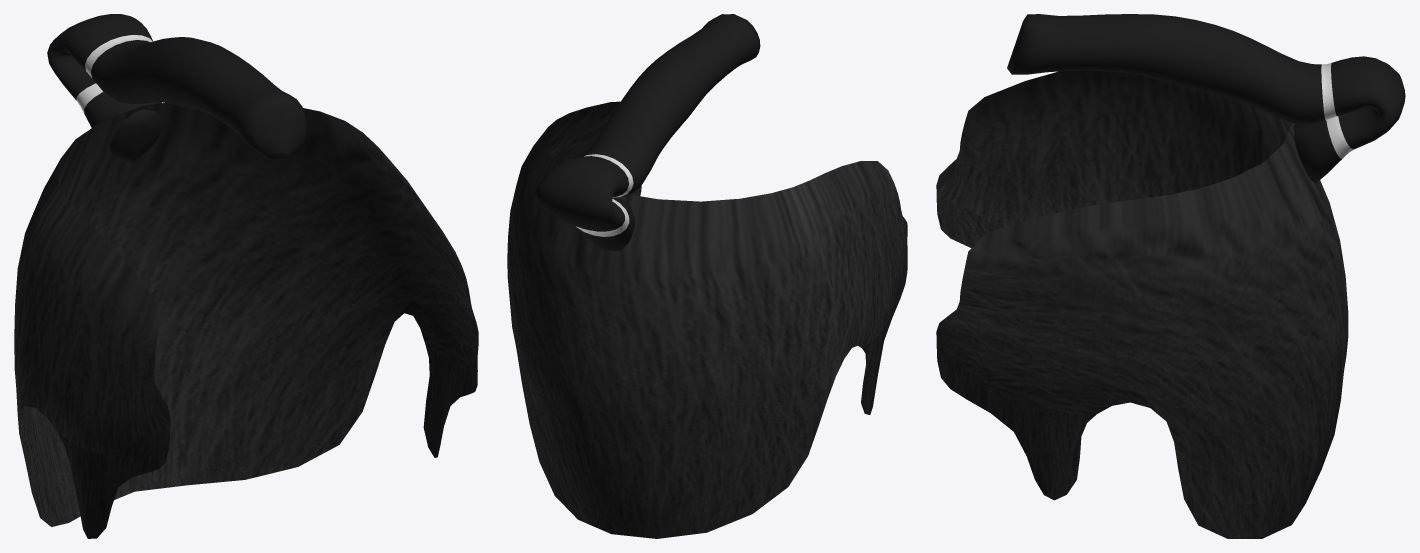
File: Kami03.fbx
3 views of the same model, side by side, from view 1: azimuth 30°, elevation 25°; view 2: azimuth 150°, elevation 25°; view 3: azimuth 270°, elevation 25° (orthographic). The views are drawn at different scales.
Parts seen in each view (by area): view 1: Kami03; view 2: Kami03; view 3: Kami03.
Boxes of the visible parts, box(x1,y1,x2,y2) form: Kami03: box(14, 14, 478, 538); Kami03: box(507, 14, 907, 538); Kami03: box(936, 14, 1405, 538).
Size of the model in its own units: 15.63 by 19.48 by 17.03.
